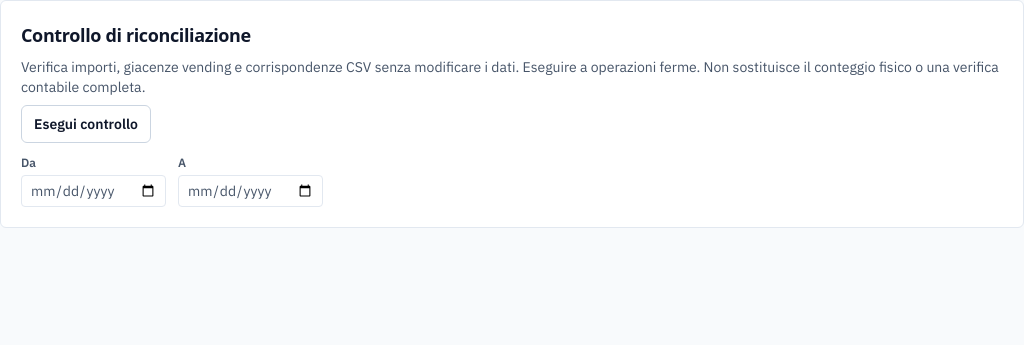
Test case: un errore non lascia visibile un precedente risultato pulito
This screenshot has width=1024, height=345.
Click the button "Esegui controllo" at (86, 124), box [21,105,151,143]
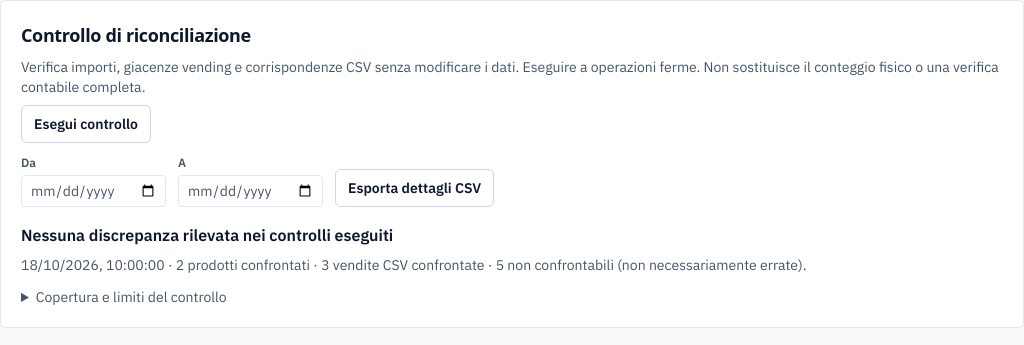
Click the button "Esegui controllo" at (86, 124), box [21,105,151,143]
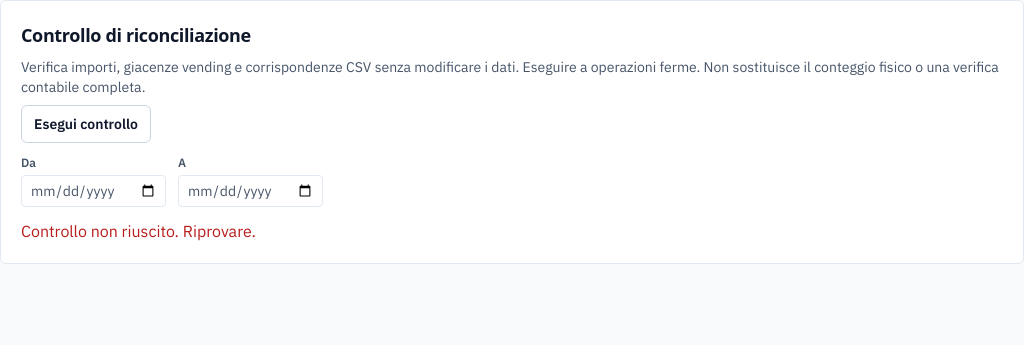
Result: the message "Controllo non riuscito. Riprovare." is shown at [21,221,256,241]
Result: the text "Nessuna discrepanza rilevata" is gone
